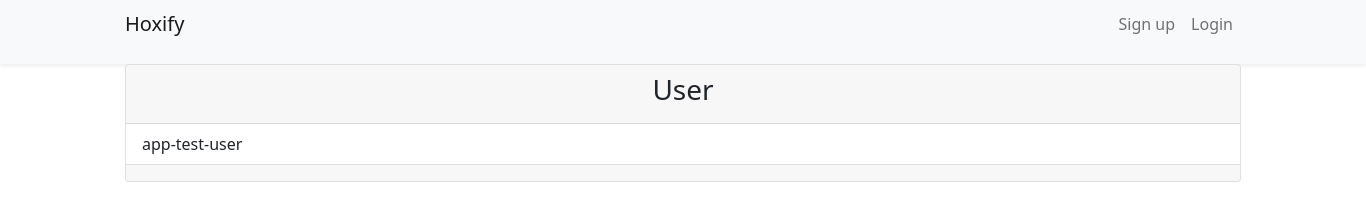
Test: Routing › navigates to user page when clicking username on user list
Click the list item "app-test-user".
click(683, 144)  # box [126,124,1240,164]
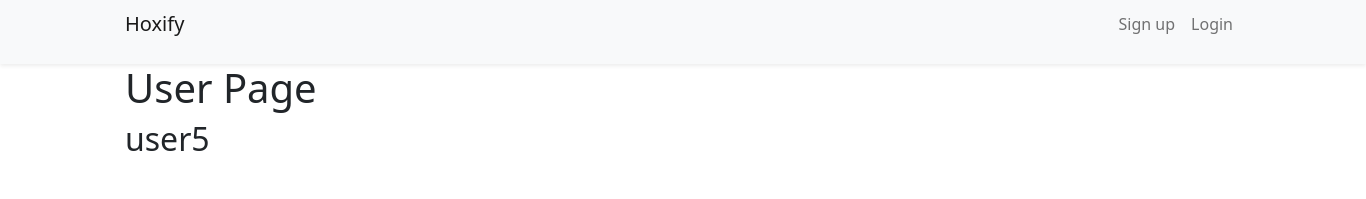
Result: the element with test id "user-page" is shown at [125,60,317,160]
Result: the heading "user5" is shown at [125,117,210,160]
